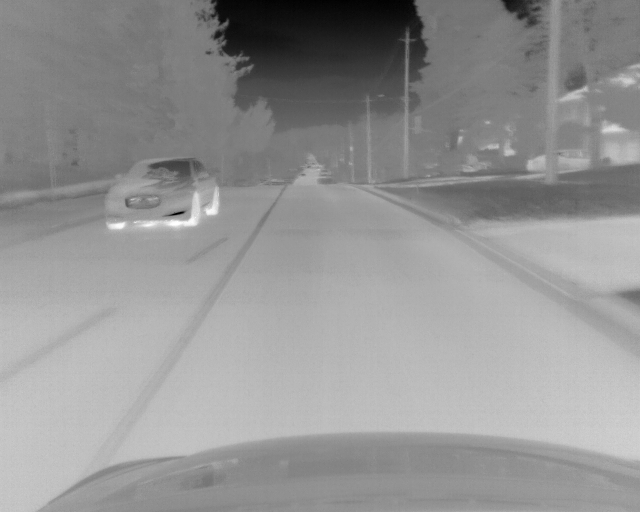car: (103, 155, 220, 229), (526, 146, 616, 173)
